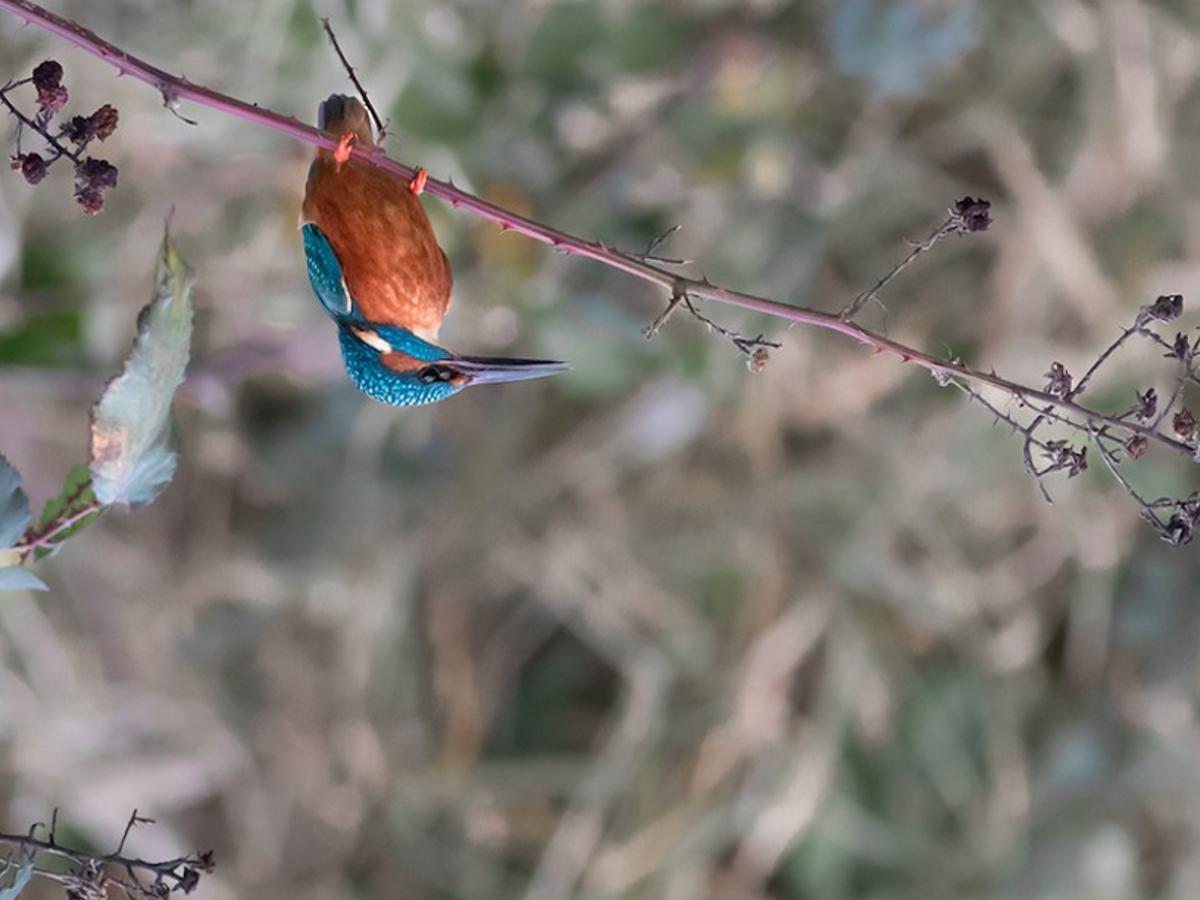kingfisher: (291, 85, 582, 421)
